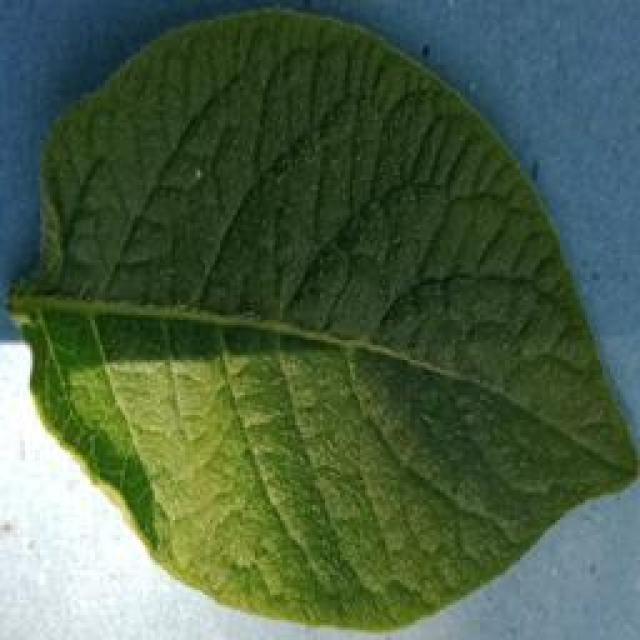Potato_Healthy: (9, 5, 625, 627)
